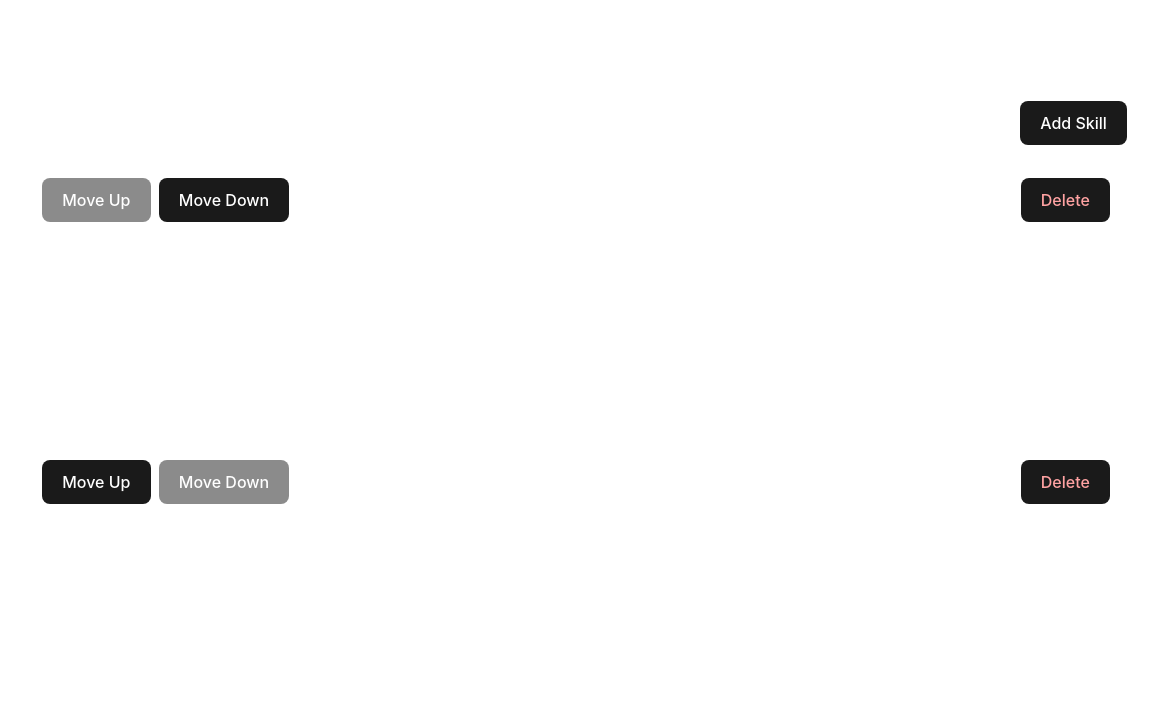
it: SkillsSection › allows skills to be reordered and preserves the new order on save
Expected: the 1st button "Move Up" is disabled, left=42, top=178, right=151, bottom=222
Click the 2nd button "Move Up": (96,482) left=42, top=460, right=151, bottom=504
(page scrolled)
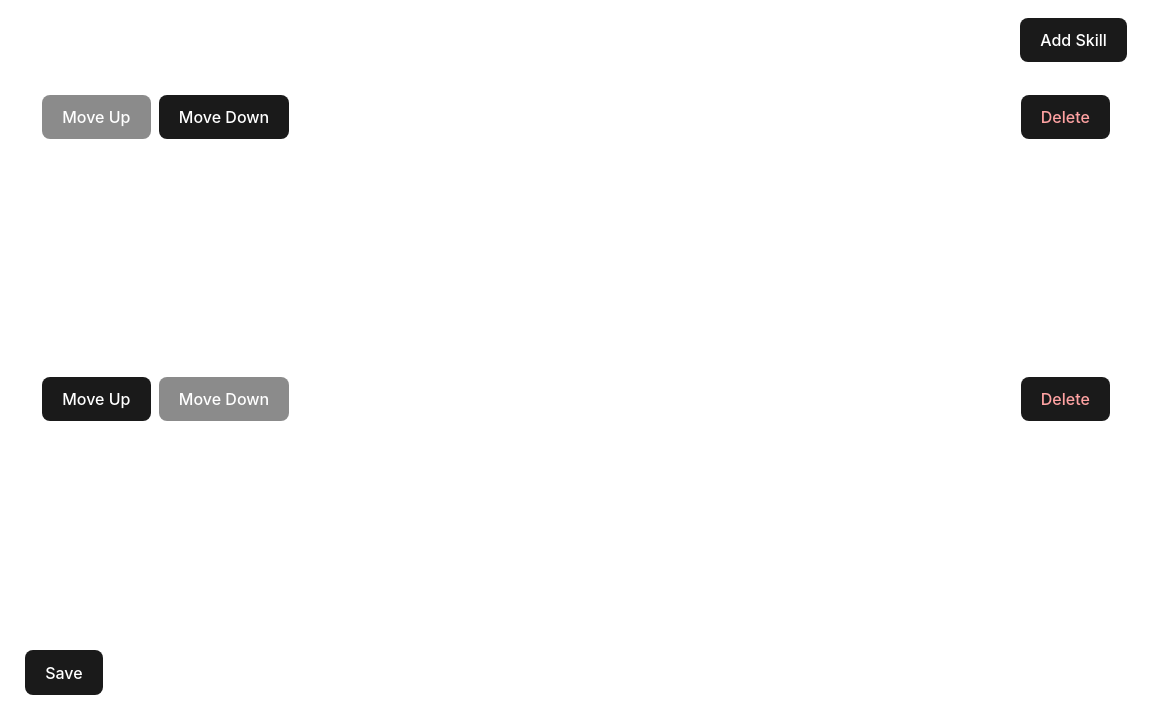
Expected: the 1st field labelled "Skill Name*" holds "CSS", left=42, top=183, right=564, bottom=233
Expected: the 2nd field labelled "Skill Name*" holds "React", left=42, top=465, right=564, bottom=515
Click the button "Save": (64,673) left=25, top=650, right=103, bottom=695
(page scrolled)
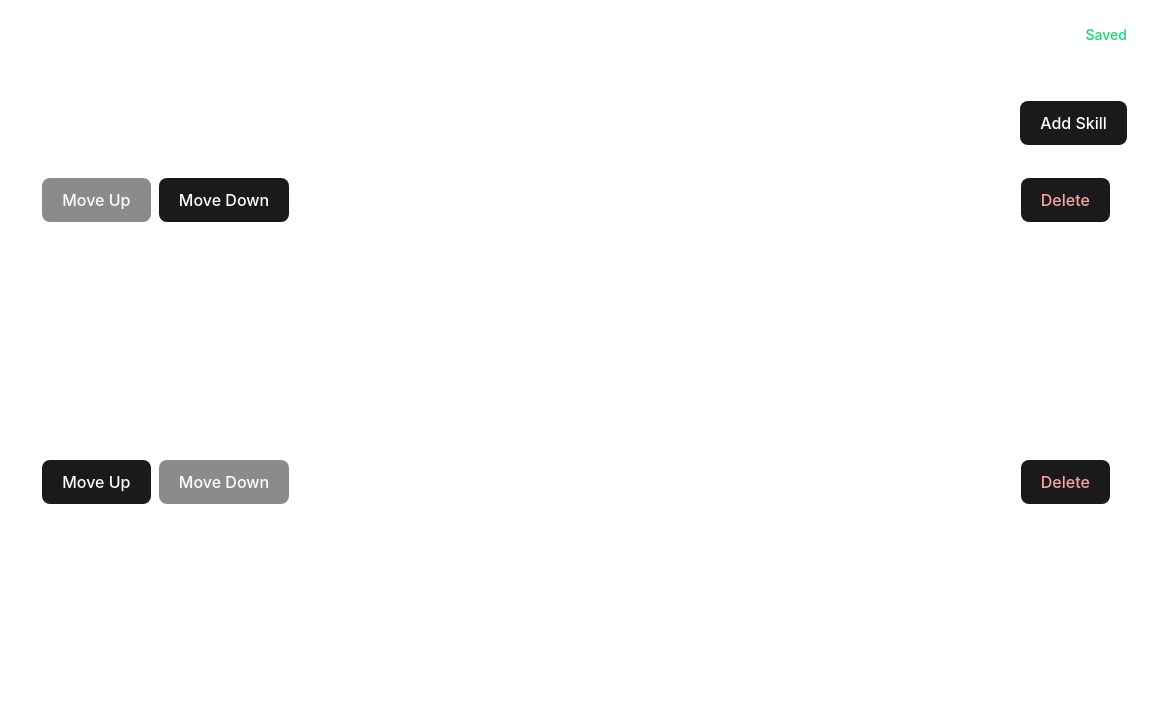
Expected: the text "Saved" is shown, left=1086, top=25, right=1127, bottom=45
